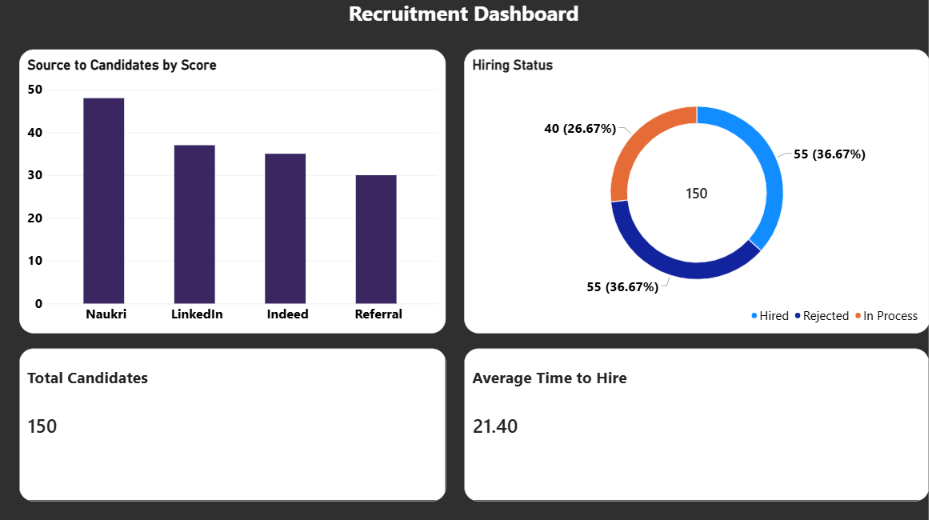

This screenshot's page, from the dashboard's own definition file:
{"tool":"powerbi","page":{"name":"Page 1","canvas":[1920,1080],"ordinal":0},"visuals":[{"type":"columnChart","title":"Source to Candidates by Score","fields":{"Category":["cleaned_recruitment.Source"],"Y":["CountNonNull(cleaned_recruitment.Candidate_ID)"]},"box":[41.2,105,881,586.6],"z":0},{"type":"donutChart","title":"Hiring Status","fields":{"Category":["cleaned_recruitment.Status"],"Y":["CountNonNull(cleaned_recruitment.Candidate_ID)"]},"box":[959.2,105,961.2,586.6],"z":1000},{"type":"cardVisual","fields":{"Data":["CountNonNull(cleaned_recruitment.Candidate_ID)"]},"box":[41.3,722.7,881.7,315.9],"z":2000},{"type":"cardVisual","fields":{"Data":["Avg(cleaned_recruitment.Time_to_Hire)"]},"box":[960.2,722.7,960.2,315.9],"z":3000},{"type":"textbox","box":[698,0,522.4,64],"z":4000},{"type":"textbox","box":[57.6,759.5,300.5,76.2],"z":5000},{"type":"textbox","box":[977.7,759.5,382.8,92.6],"z":6000}]}

Visuals, with their boxes in screenshot pixels (x1, y1, x2, y2), scaled from the page's 1920x1080 canvas onto the 929x520 screenshot:
"Source to Candidates by Score" columnChart: crop(20, 51, 446, 333)
"Hiring Status" donutChart: crop(464, 51, 928, 333)
cardVisual - CountNonNull(cleaned_recruitment.Candidate_ID): crop(20, 348, 447, 500)
cardVisual - Avg(cleaned_recruitment.Time_to_Hire): crop(465, 348, 928, 500)
textbox: crop(338, 0, 590, 31)
textbox: crop(28, 366, 173, 402)
textbox: crop(473, 366, 658, 410)
